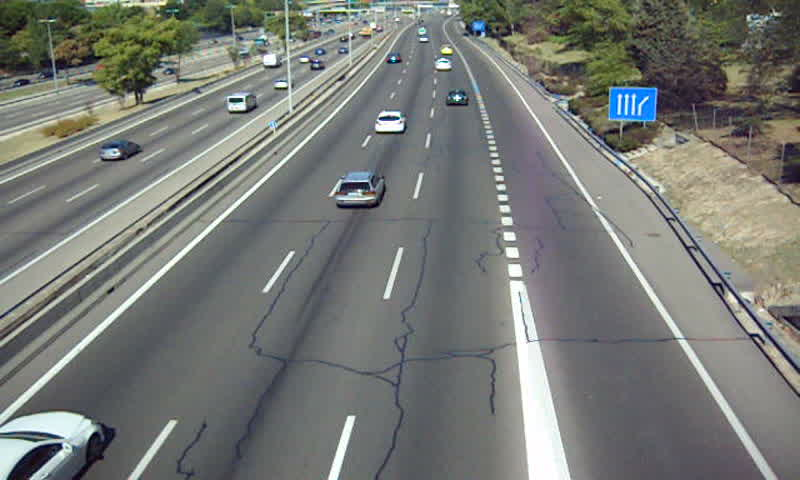car: (334, 174, 384, 207), (375, 111, 406, 133), (446, 89, 468, 108), (436, 57, 452, 71), (385, 52, 402, 64)
